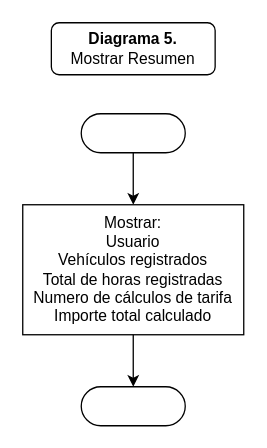
Some shapes in this 267 by 448 pixel diagram are drawn without their labels. Each missing label, with the box of its shape:
Llegada desde menu: (80, 112, 185, 153)
Volver a menu: (80, 385, 185, 426)
